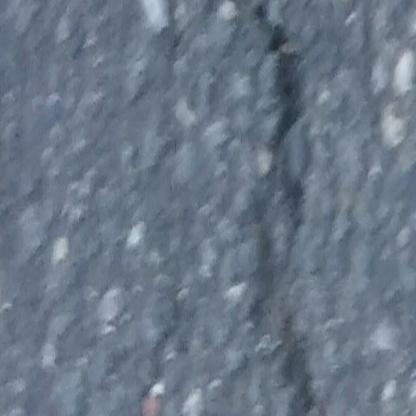Cracks: (223, 0, 334, 416)
